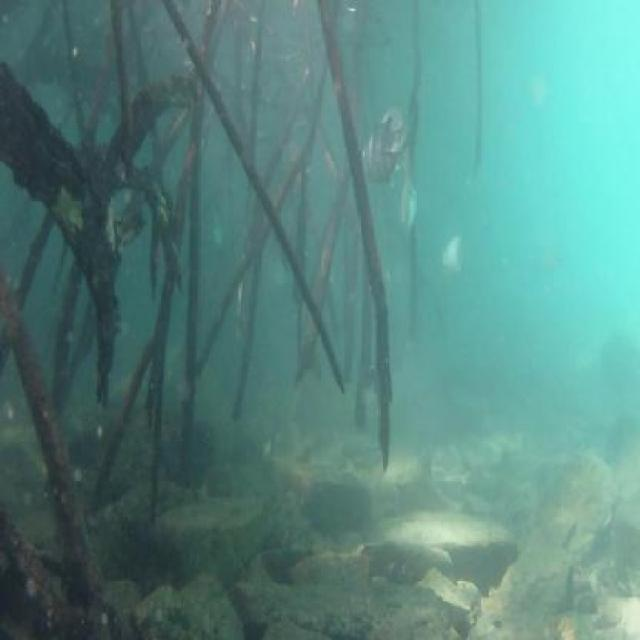Caranx_sexfasciatus_juvenile: (364, 104, 428, 188), (374, 93, 426, 178), (394, 173, 428, 244)
